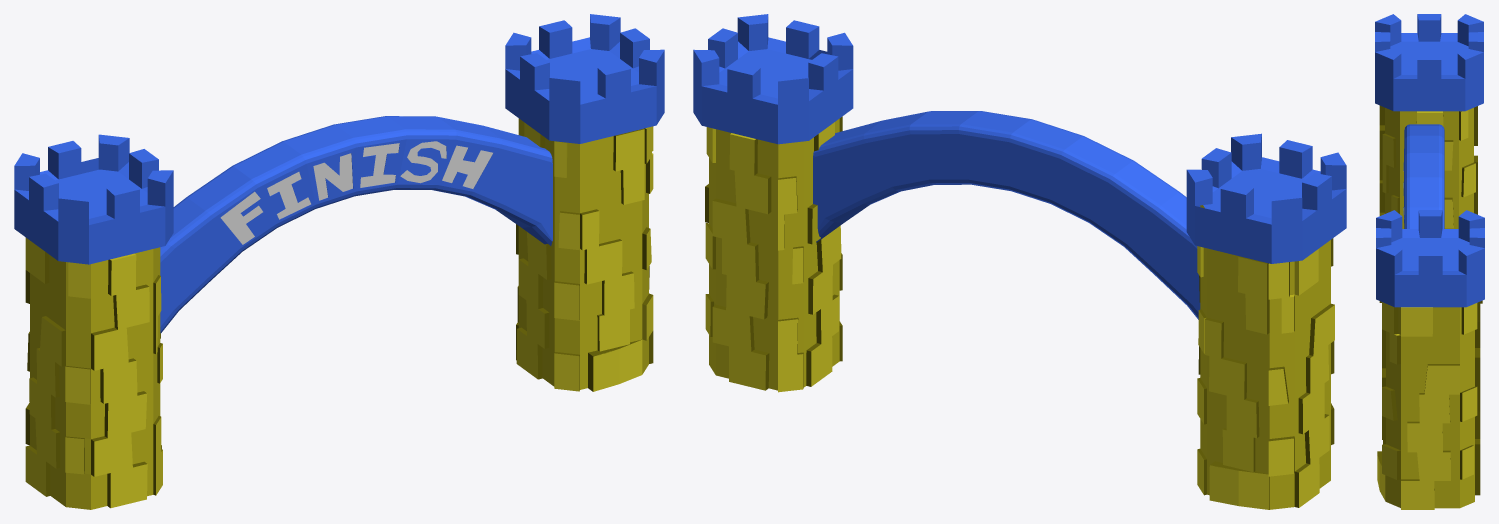
Rendered from finish.glb.
3 views of the same model, side by side, from view 1: azimuth 30°, elevation 25°; view 2: azimuth 150°, elevation 25°; view 3: azimuth 270°, elevation 25° (orthographic). The views are drawn at different scales.
Visible parts, largest first — view 1: Cube.001, Cube.002, Circle; view 2: Cube.001, Cube.002, Circle; view 3: Cube.002, Cube.001, Circle.
Boxes of the visible parts, <box> form: Cube.001: <box>14,134,173,509</box>; Cube.002: <box>505,14,664,391</box>; Circle: <box>160,116,552,333</box>; Cube.001: <box>1186,133,1346,509</box>; Cube.002: <box>693,14,853,392</box>; Circle: <box>813,111,1200,319</box>; Cube.002: <box>1376,210,1484,509</box>; Cube.001: <box>1375,14,1483,303</box>; Circle: <box>1403,124,1444,228</box>.
Bounding box in the file's own units: 12.87 × 6.37 × 2.47.
